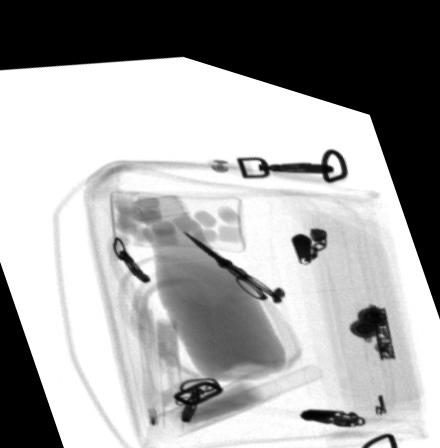Scissors: (180, 217, 273, 282)
